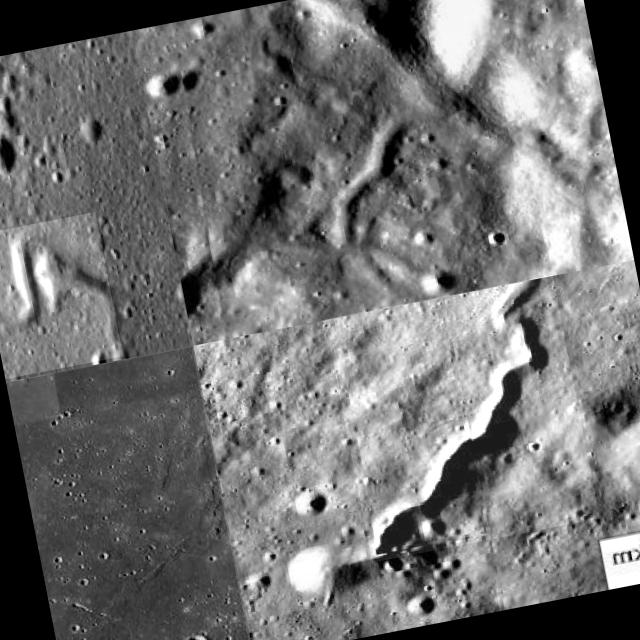rille: (239, 0, 575, 240), (325, 274, 600, 562), (6, 346, 252, 640), (307, 109, 469, 314), (0, 212, 123, 379)
